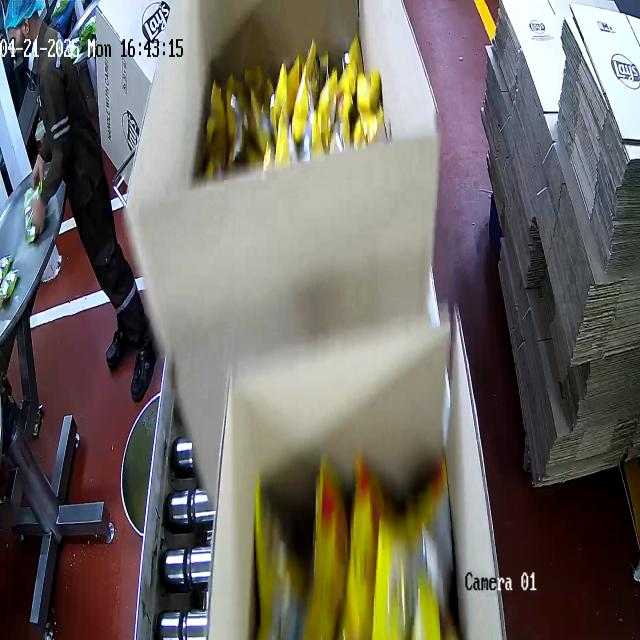SALTED: (248, 440, 459, 640), (210, 50, 400, 154)
